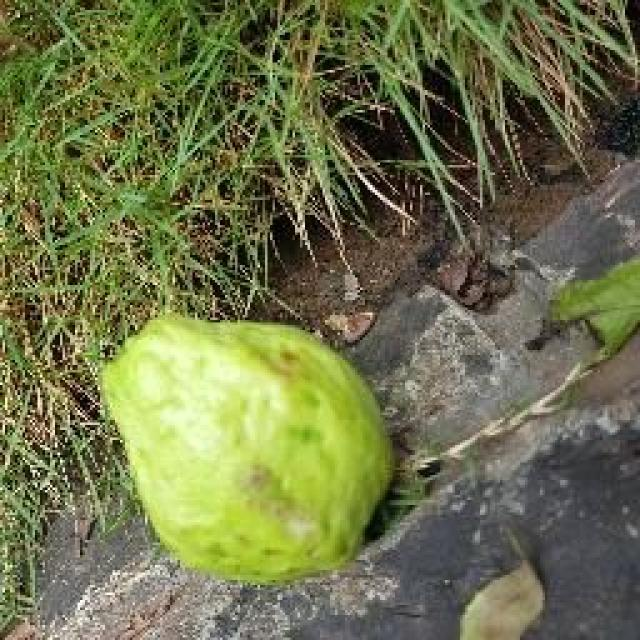Good_Guava: (100, 315, 398, 585)
